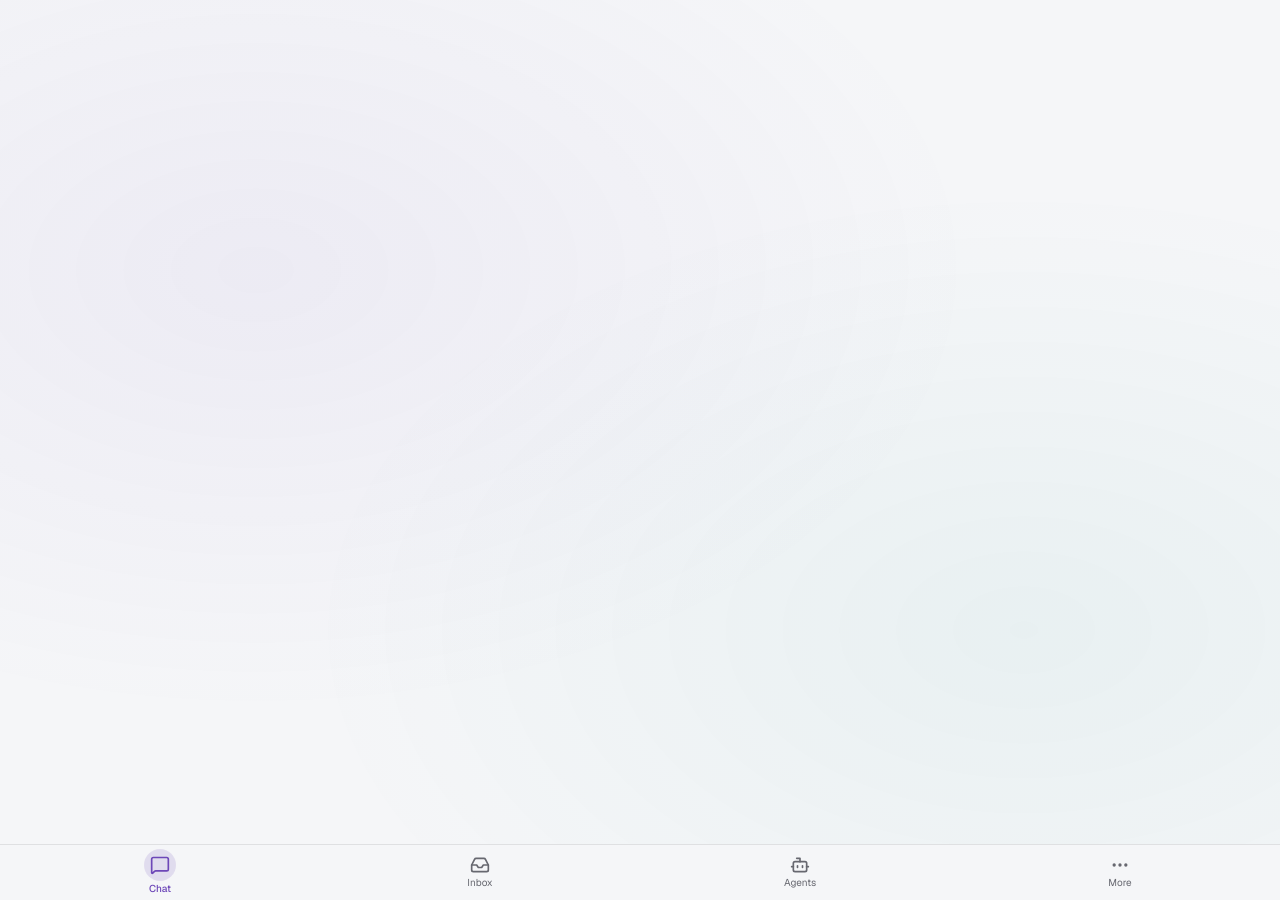
MobileTabBar › hides Settings in the sheet from non-operator roles
Step 1. Click the button with test id "mobile-tab-more" → point(1120, 872), box [1098,850,1142,894]
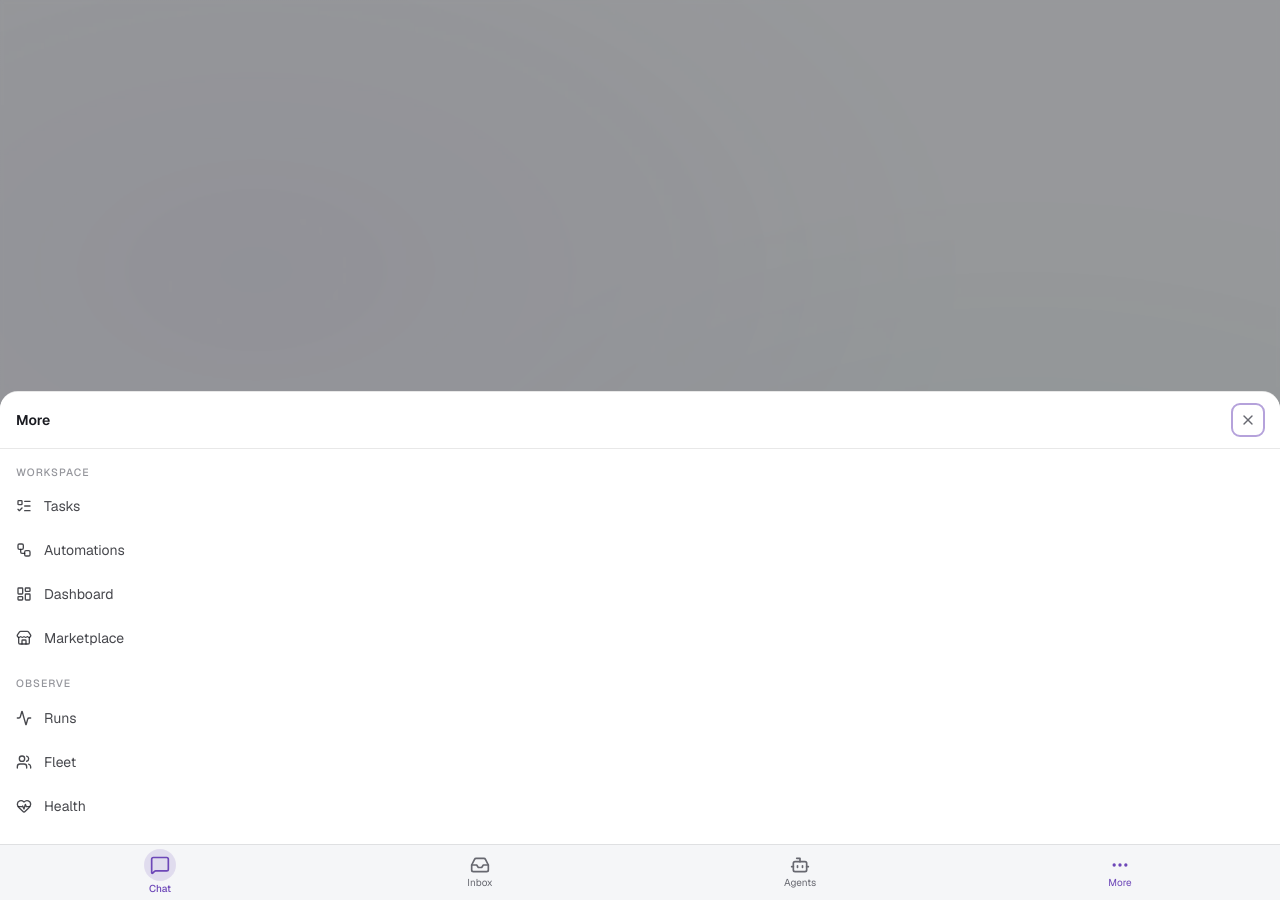
Step 2. Click the button with test id "mobile-more-close" → point(1248, 420), box [1232,404,1264,436]
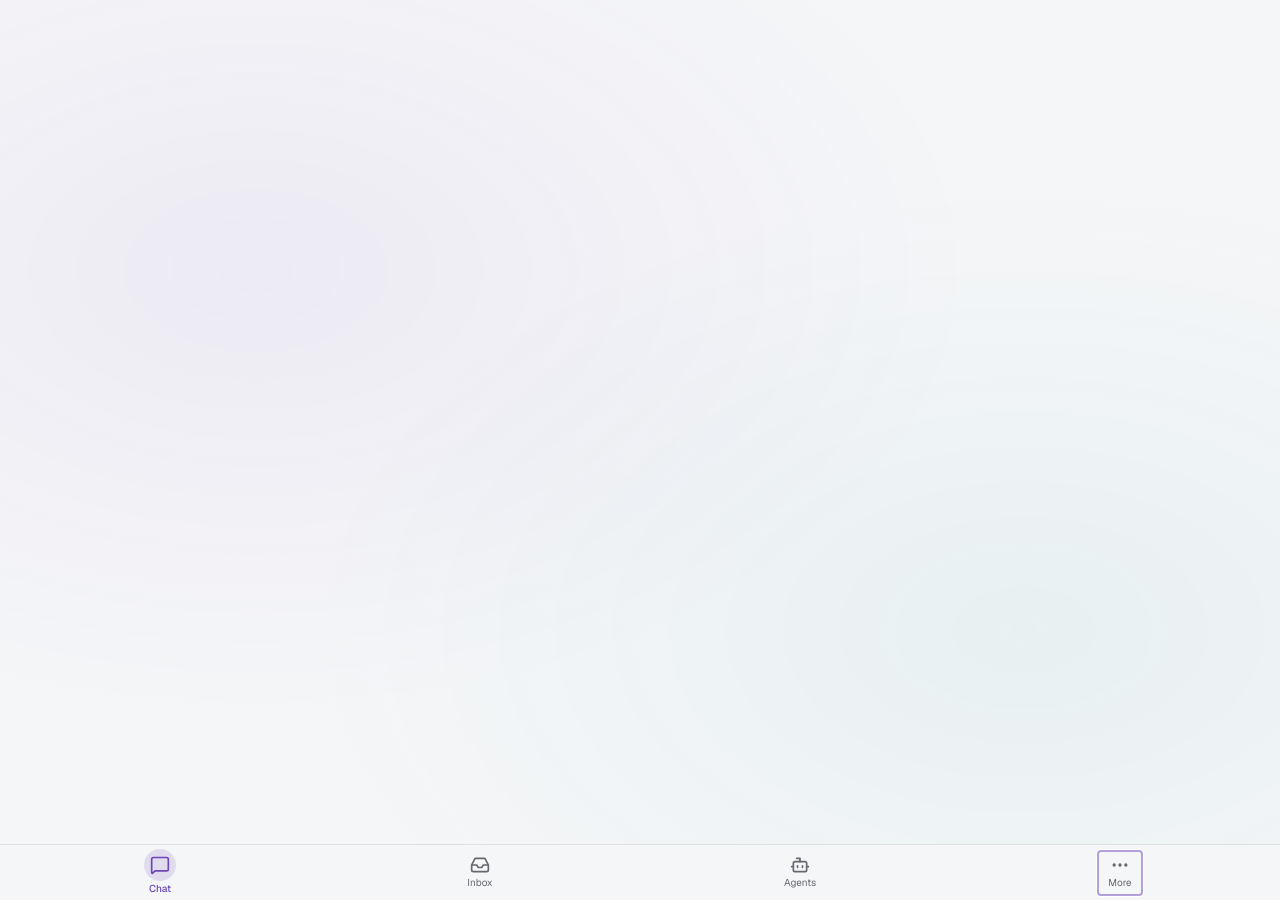
Expected: the dialog with test id "mobile-more-sheet" is gone
